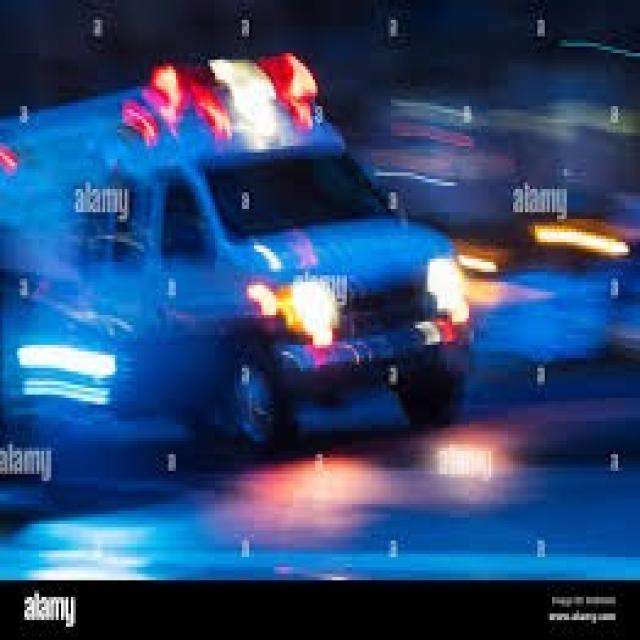ambulance: (0, 16, 499, 434)
